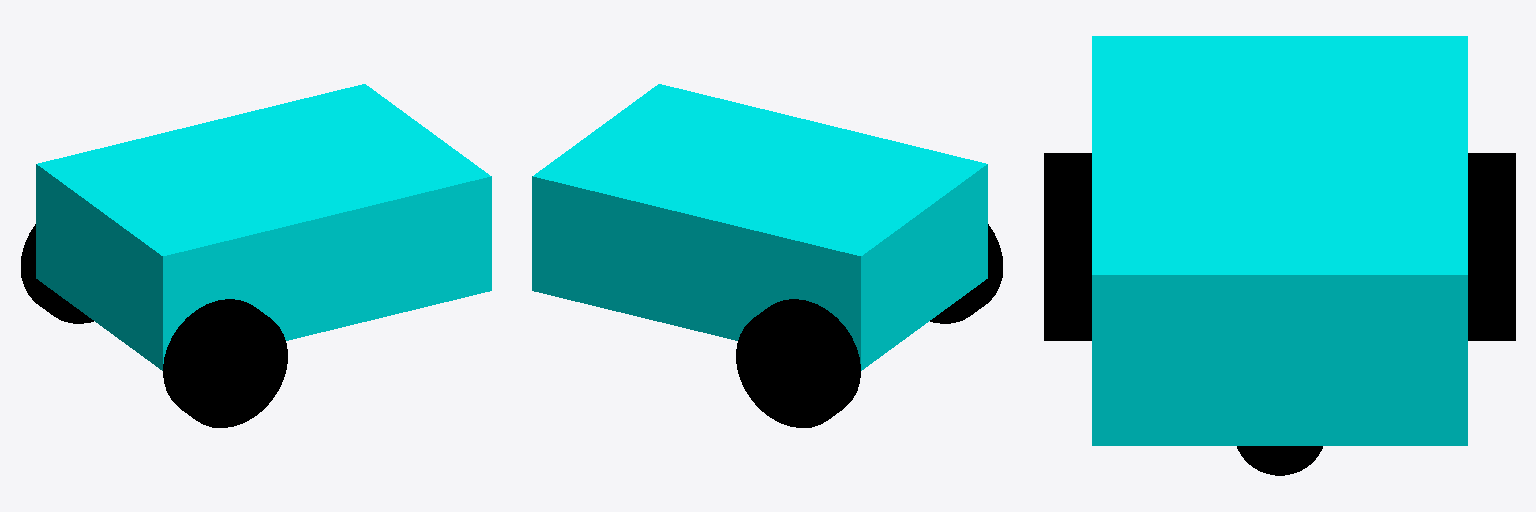
The robot description file, URDF, robot "robot_urdf":
<?xml version="1.0" ?>
<!-- =================================================================================== -->
<!-- |    This document was autogenerated by xacro from [local-path]/Ros_Egitim/Projeler/Robot_Modelleme/robot_modelleme_ws/src/my_robot_description/urdf/main.xacro | -->
<!-- |    EDITING THIS FILE BY HAND IS NOT RECOMMENDED                                 | -->
<!-- =================================================================================== -->
<robot name="robot_urdf">
  <!-- xmlns:xacro = "http://www.ros.org/wiki/xacro>" kısmı xacro kullanabilmek için.-->
  <!-- xmlns:xacro = "http://www.ros.org/wiki/xacro>" kısmı xacro kullanabilmek için.-->
  <!-- Cisim merkezi tabanın ortasında değil de tabanın üstünde olsun diye link oluşturucaz .-->
  <link name="odom_link"/>
  <link name="base_link">
    <inertial>
      <mass value="5"/>
      <inertia ixx="1e-3" ixy="0.0" ixz="0.0" iyy="1e-3" iyz="0.0" izz="1e-3"/>
    </inertial>
    <visual>
      <geometry>
        <box size="0.6 0.4 0.2"/>
      </geometry>
      <origin rpy="0.0 0.0 0.0" xyz="0.0 0.0 0.0"/>
      <material name="cyan"/>
    </visual>
    <collision>
      <geometry>
        <box size="0.6 0.4 0.2"/>
      </geometry>
      <origin rpy="0.0 0.0 0.0" xyz="0.0 0.0 0.0"/>
      <material name="cyan"/>
    </collision>
  </link>
  <link name="caster_wheel_link">
    <inertial>
      <mass value="1"/>
      <inertia ixx="1e-3" ixy="0.0" ixz="0.0" iyy="1e-3" iyz="0.0" izz="1e-3"/>
    </inertial>
    <visual>
      <geometry>
        <sphere radius="0.05"/>
      </geometry>
      <origin rpy="0.0 0.0 0.0" xyz="0.0 0.0 0.0"/>
      <material name="black"/>
    </visual>
    <collision>
      <geometry>
        <sphere radius="0.05"/>
      </geometry>
      <origin rpy="0.0 0.0 0.0" xyz="0.0 0.0 0.0"/>
      <material name="black"/>
    </collision>
  </link>
  <!-- Tekerlek oluşturmada sadece tekar adı değiştiğinden tek tek tanımlamaktansa bir macro yazıyoruz-->
  <link name="right_wheel_link">
    <inertial>
      <mass value="1"/>
      <inertia ixx="1e-3" ixy="0.0" ixz="0.0" iyy="1e-3" iyz="0.0" izz="1e-3"/>
    </inertial>
    <visual>
      <geometry>
        <cylinder length="0.05" radius="0.1"/>
      </geometry>
      <origin rpy="1.5707963267948966 0.0  0.0" xyz="0.0 0.0 0.0"/>
      <!-- Tekerim yatay bir biiçimde oluşuyor ve benim istediğim gibi durması için x ekseni etrafında 90 derce döndürüyorum. 
                                                                     ( kırmızı = X , Yeşil = Y , Mavi = Z)-->
      <material name="black"/>
    </visual>
    <collision>
      <geometry>
        <cylinder length="0.05" radius="0.1"/>
      </geometry>
      <origin rpy="1.5707963267948966 0.0  0.0" xyz="0.0 0.0 0.0"/>
      <!-- Tekerim yatay bir biiçimde oluşuyor ve benim istediğim gibi durması için x ekseni etrafında 90 derce döndürüyorum. 
                                                                    ( kırmızı = X , Yeşil = Y , Mavi = Z)-->
      <material name="black"/>
    </collision>
  </link>
  <!-- Tekerlek oluşturmada sadece tekar adı değiştiğinden tek tek tanımlamaktansa bir macro yazıyoruz-->
  <link name="left_wheel_link">
    <inertial>
      <mass value="1"/>
      <inertia ixx="1e-3" ixy="0.0" ixz="0.0" iyy="1e-3" iyz="0.0" izz="1e-3"/>
    </inertial>
    <visual>
      <geometry>
        <cylinder length="0.05" radius="0.1"/>
      </geometry>
      <origin rpy="1.5707963267948966 0.0  0.0" xyz="0.0 0.0 0.0"/>
      <!-- Tekerim yatay bir biiçimde oluşuyor ve benim istediğim gibi durması için x ekseni etrafında 90 derce döndürüyorum. 
                                                                     ( kırmızı = X , Yeşil = Y , Mavi = Z)-->
      <material name="black"/>
    </visual>
    <collision>
      <geometry>
        <cylinder length="0.05" radius="0.1"/>
      </geometry>
      <origin rpy="1.5707963267948966 0.0  0.0" xyz="0.0 0.0 0.0"/>
      <!-- Tekerim yatay bir biiçimde oluşuyor ve benim istediğim gibi durması için x ekseni etrafında 90 derce döndürüyorum. 
                                                                    ( kırmızı = X , Yeşil = Y , Mavi = Z)-->
      <material name="black"/>
    </collision>
  </link>
  <joint name="base_joint" type="fixed">
    <parent link="odom_link"/>
    <child link="base_link"/>
    <origin rpy="0.0 0.0 0.0" xyz="0 0 0.2"/>
  </joint>
  <joint name="base_right_wheel_joint" type="continuous">
    <parent link="base_link"/>
    <child link="right_wheel_link"/>
    <origin rpy="0.0 0.0 0.0" xyz="-0.19999999999999998 -0.225 -0.1"/>
    <axis xyz="0 1 0.0"/>
    <!-- Cismin hangi eksenlerde dönüşüne müsaade ettiğimiz.-->
    <!--Duruş ayarlandıktan sonra bakıyoruz yeşil yani y ekseni etrafında dönmeli-->
    <limit effort="0.0" lower="0.0" upper="0.0" velocity="0.0"/>
  </joint>
  <joint name="base_left_wheel_joint" type="continuous">
    <parent link="base_link"/>
    <child link="left_wheel_link"/>
    <origin rpy="0.0 0.0 0.0" xyz="-0.19999999999999998 0.225 -0.1"/>
    <axis xyz="0 1 0.0"/>
    <!-- Cismin hangi eksenlerde dönüşüne müsaade ettiğimiz.-->
    <!--Duruş ayarlandıktan sonra bakıyoruz yeşil yani y ekseni etrafında dönmeli-->
    <limit effort="0.0" lower="0.0" upper="0.0" velocity="0.0"/>
  </joint>
  <joint name="base_caster_wheel_joint" type="fixed">
    <parent link="base_link"/>
    <child link="caster_wheel_link"/>
    <origin rpy="0.0 0.0 0.0" xyz="0.15 0 -0.15000000000000002"/>
  </joint>
  <!-- xmlns:xacro = "http://www.ros.org/wiki/xacro>" kısmı xacro kullanabilmek için.-->
  <material name="cyan">
    <color rgba="0 1 1 1"/>
  </material>
  <material name="black">
    <color rgba="0 0 0 1"/>
  </material>
</robot>

--- What the picture shows (computed from the rendered views, not written in the file) ---
The picture shows the robot from 3 angles, left to right: view 1: azimuth 30°, elevation 25°; view 2: azimuth 150°, elevation 25°; view 3: azimuth 270°, elevation 25°; orthographic projection.
Robot: robot_urdf — 5 links, 4 joints (2 continuous, 2 fixed); root link odom_link; default pose: all joints at 0.
Links seen in each view (by area): view 1: base_link, right_wheel_link, left_wheel_link; view 2: base_link, left_wheel_link, right_wheel_link; view 3: base_link, right_wheel_link, left_wheel_link, caster_wheel_link.
Boxes of the visible links, x1,y1,x2,y2 form: base_link: (36, 84, 491, 370); right_wheel_link: (163, 299, 287, 427); left_wheel_link: (21, 224, 93, 323); base_link: (532, 84, 987, 370); left_wheel_link: (736, 299, 860, 427); right_wheel_link: (930, 224, 1002, 323); base_link: (1092, 36, 1467, 445); right_wheel_link: (1044, 153, 1091, 340); left_wheel_link: (1468, 153, 1515, 340); caster_wheel_link: (1237, 446, 1322, 475).
Bounding box of the posed robot: 0.6 × 0.5 × 0.3 m (x, y, z).
Geometry: primitives only (box / cylinder / sphere), no mesh files.
